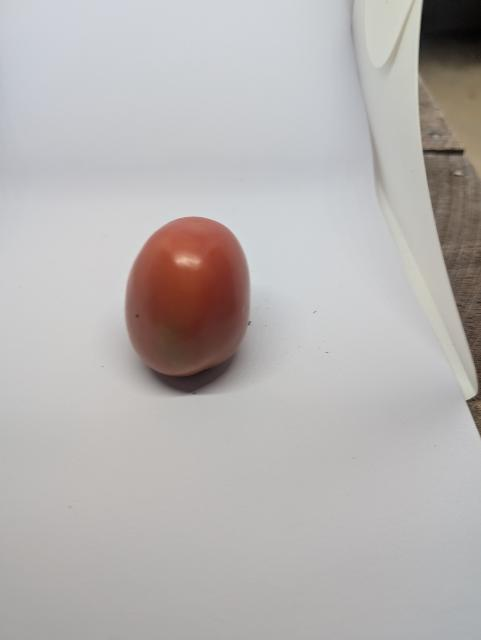red: (118, 206, 264, 401)
